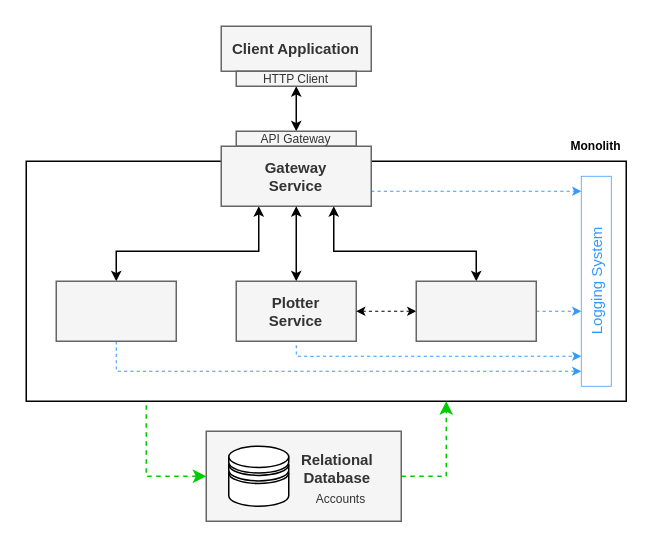
Some shapes in this 653 by 548 pixel diagram are drawn without their labels. The shapes that lost their labels are listed below. From the top down, each one's box as (x1, y1, x2, y2) in pixels, then its label:
(55, 280, 176, 341): User Service
(415, 280, 536, 341): Fitter Service
